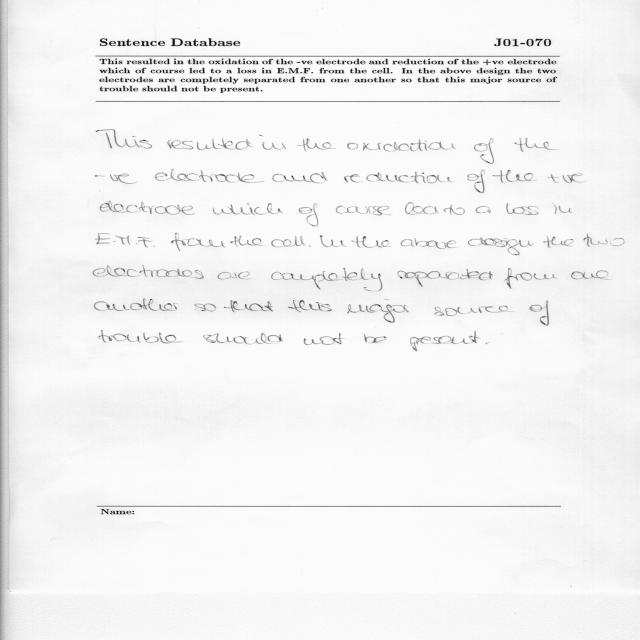word: (272, 268, 383, 291), (397, 269, 493, 287), (93, 265, 204, 279), (154, 169, 264, 183), (347, 299, 409, 323), (347, 139, 456, 152), (410, 331, 480, 351), (100, 201, 195, 215), (344, 172, 453, 184), (468, 237, 533, 255), (504, 268, 558, 289), (99, 331, 182, 344), (96, 130, 152, 149), (167, 138, 252, 150), (94, 299, 177, 311), (171, 233, 226, 251), (203, 333, 284, 344), (96, 233, 155, 248), (213, 203, 282, 215), (435, 306, 508, 316), (401, 238, 459, 249), (273, 172, 328, 183), (514, 137, 554, 152), (224, 300, 273, 312), (493, 170, 537, 183), (336, 206, 392, 216), (584, 234, 625, 247), (298, 138, 336, 152), (288, 300, 332, 312), (474, 138, 494, 164), (529, 300, 549, 326), (299, 203, 319, 227), (351, 236, 391, 248), (304, 333, 344, 345), (96, 173, 138, 184), (405, 202, 439, 215), (467, 170, 485, 193), (259, 135, 286, 150), (506, 203, 539, 215), (571, 270, 609, 280), (272, 236, 306, 247), (230, 236, 263, 247), (544, 236, 574, 248), (548, 174, 583, 184), (320, 235, 347, 247), (217, 272, 251, 280), (443, 204, 465, 215), (552, 203, 572, 214), (364, 334, 387, 343), (194, 304, 216, 312), (475, 206, 491, 213), (485, 342, 489, 344), (309, 245, 311, 247)
